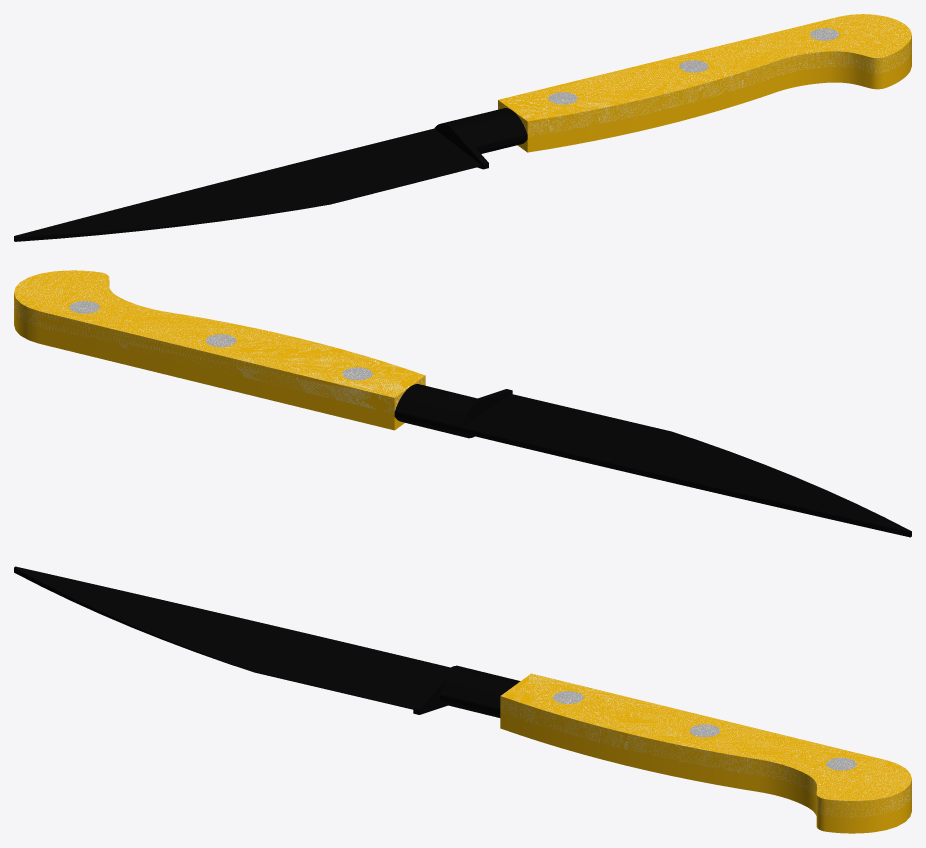
Rendered from knife_07_origin_gt_1.dae.
3 renders of one model, top to bottom at view 1: azimuth 30°, elevation 25°; view 2: azimuth 150°, elevation 25°; view 3: azimuth 330°, elevation 25°, orthographic. The views are drawn at different scales.
Parts seen in each view (by area): view 1: group_4, Difference (×2), group_1, group_2; view 2: group_4, Difference (×2), group_1, group_2; view 3: group_4, Difference (×2), group_1, group_2, group_3.
Boxes of the visible parts, x1=… form: group_4: x1=498, y1=14, x2=911, y2=136; Difference (×2): x1=14, y1=128, x2=481, y2=241; group_1: x1=517, y1=51, x2=911, y2=152; group_2: x1=441, y1=108, x2=527, y2=166; group_4: x1=14, y1=270, x2=425, y2=413; Difference (×2): x1=461, y1=394, x2=911, y2=537; group_1: x1=14, y1=309, x2=404, y2=430; group_2: x1=394, y1=384, x2=511, y2=430; group_4: x1=500, y1=673, x2=911, y2=817; Difference (×2): x1=14, y1=566, x2=450, y2=709; group_1: x1=500, y1=712, x2=911, y2=833; group_2: x1=413, y1=665, x2=520, y2=712; group_3: x1=413, y1=697, x2=500, y2=717.
Size of the model in its own units: 8.07 by 0.849 by 0.2756.
